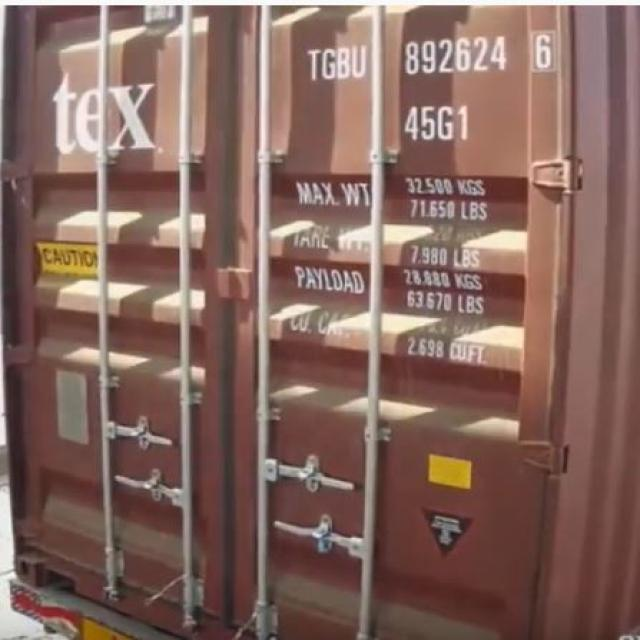ISO: (408, 106, 474, 140)
container_number: (300, 26, 555, 81)
